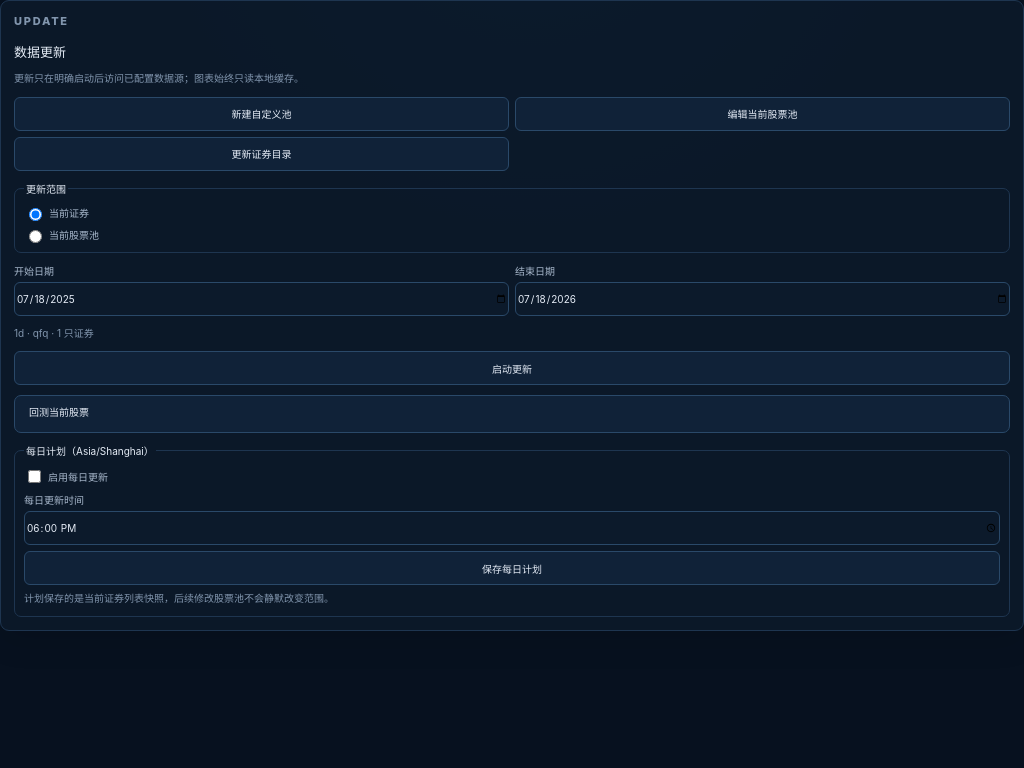
Test case: creates a custom pool from searched selections and launches a cache update
Click the button "新建自定义池": coordinates (262, 114) [14, 96, 509, 130]
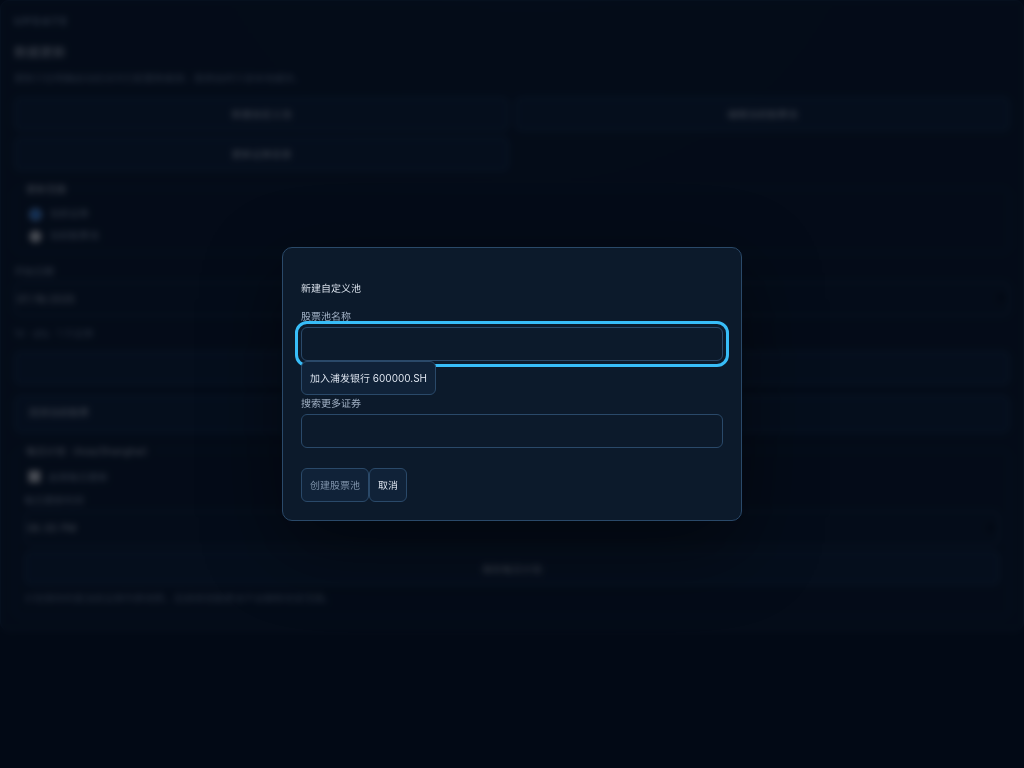
In the field labelled "股票池名称": coordinates (512, 344) [301, 327, 723, 361], type "核心观察"
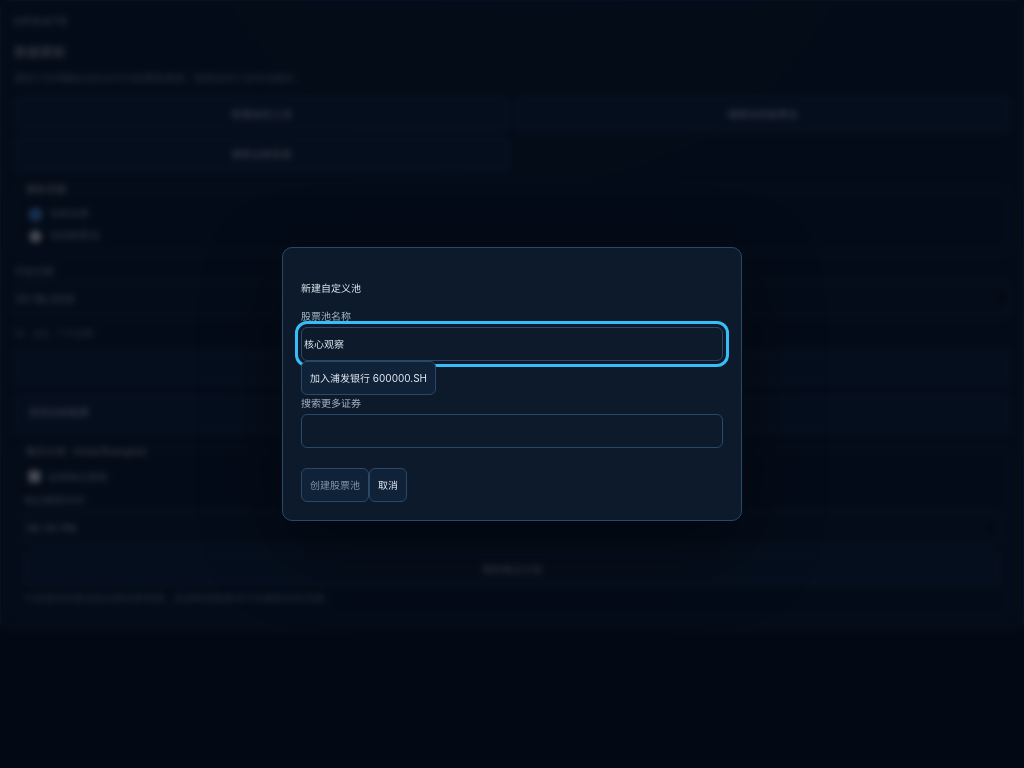
Click the button "加入浦发银行 600000.SH": coordinates (368, 378) [301, 361, 436, 395]
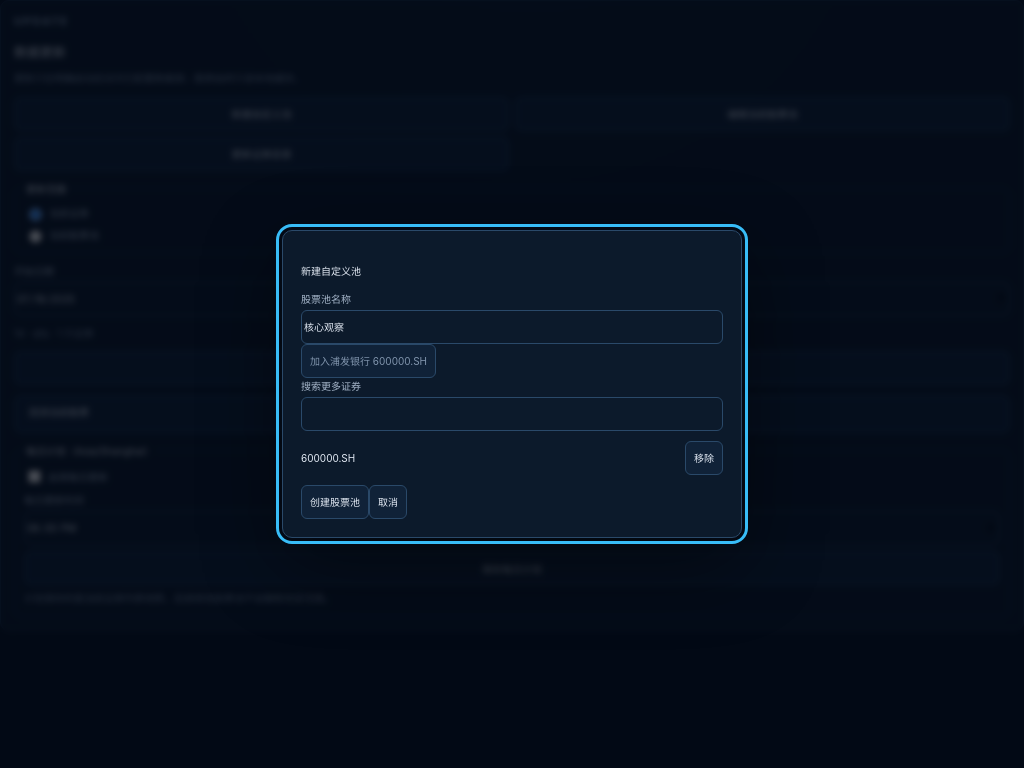
Click the button "创建股票池": coordinates (335, 502) [301, 485, 369, 519]
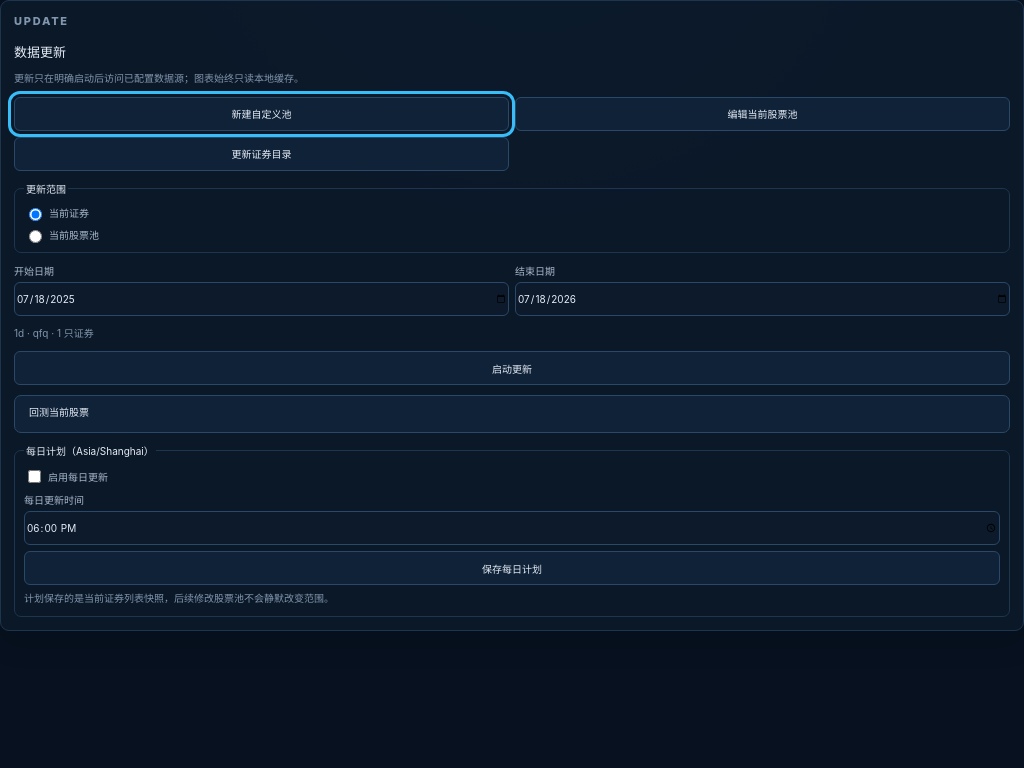
Click the button "启动更新": coordinates (512, 368) [14, 351, 1010, 385]
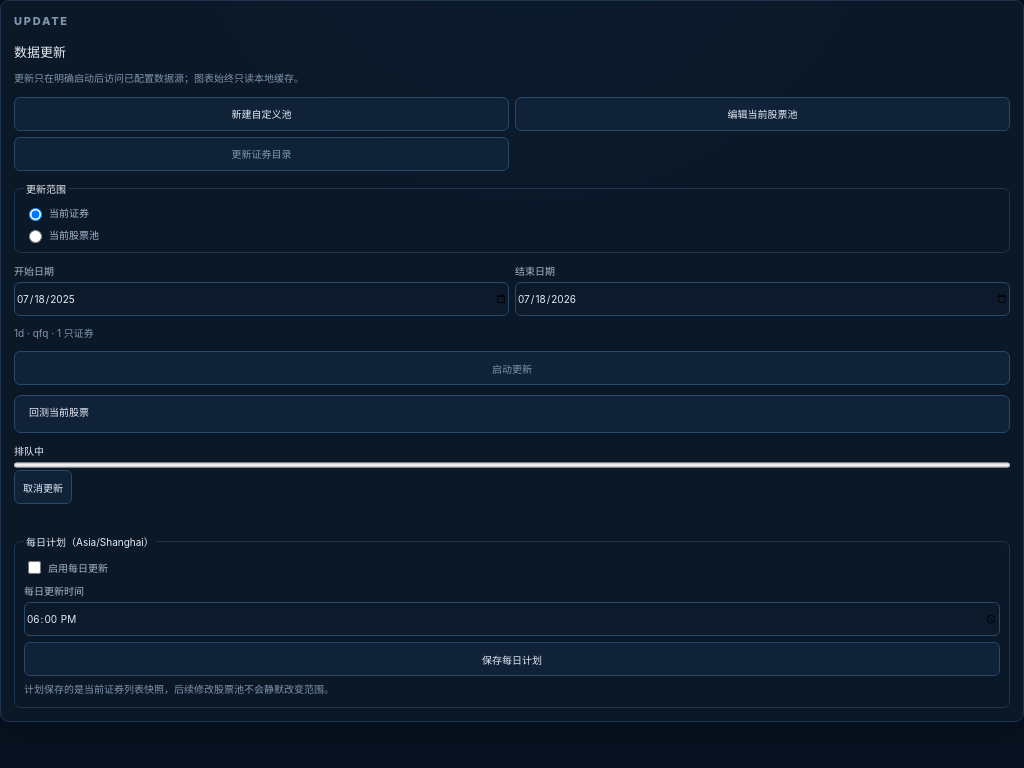
Result: the text "排队中" is shown at [14, 445, 44, 457]
